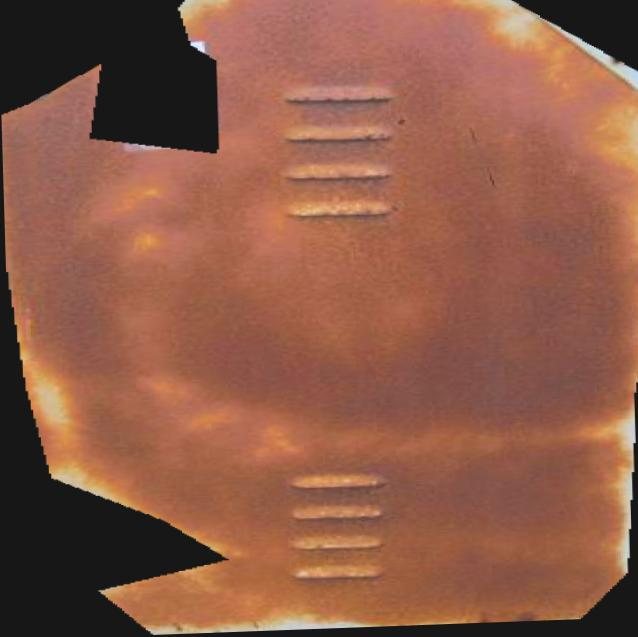Uniform Corrosion: (1, 0, 638, 636)
